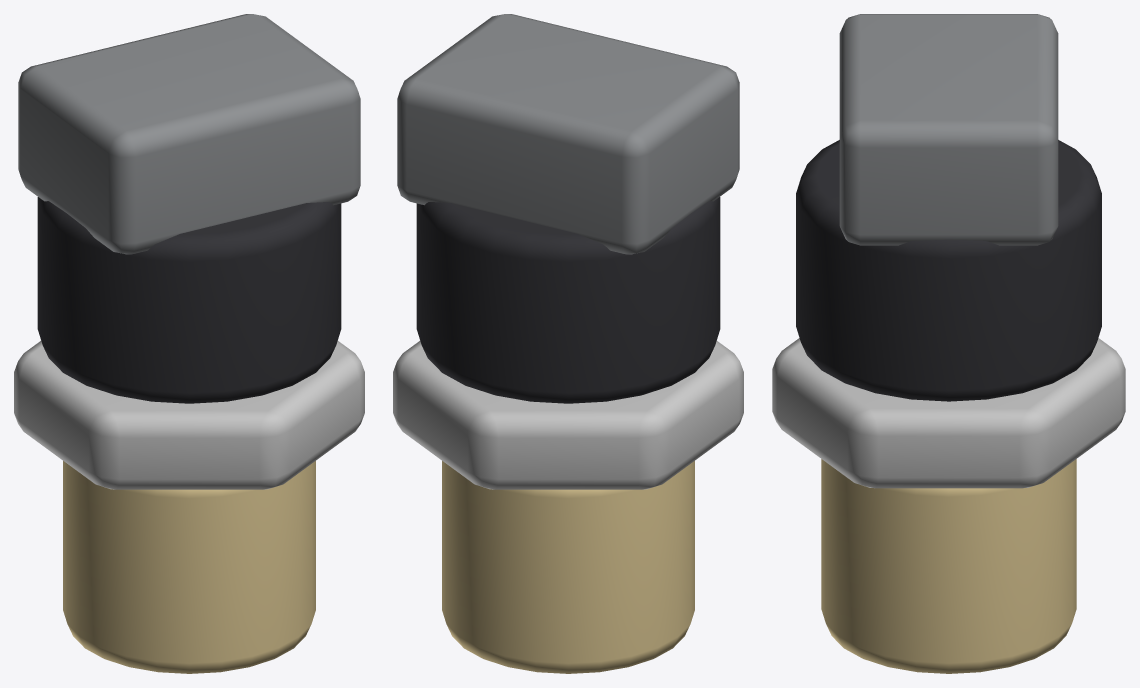
File: KnockSensor.fbx
The picture shows the model from 3 angles, left to right: view 1: azimuth 30°, elevation 25°; view 2: azimuth 150°, elevation 25°; view 3: azimuth 270°, elevation 25°; orthographic projection.
Parts seen in each view (by area): view 1: KnockSensor_LOD0; view 2: KnockSensor_LOD0; view 3: KnockSensor_LOD0.
Boxes of the visible parts, x1,y1,x2,y2 form: KnockSensor_LOD0: (14,14,364,673); KnockSensor_LOD0: (393,14,743,673); KnockSensor_LOD0: (772,14,1125,673).
Size of what is drawn, in the model's own units: 0.0303 by 0.0594 by 0.034.
